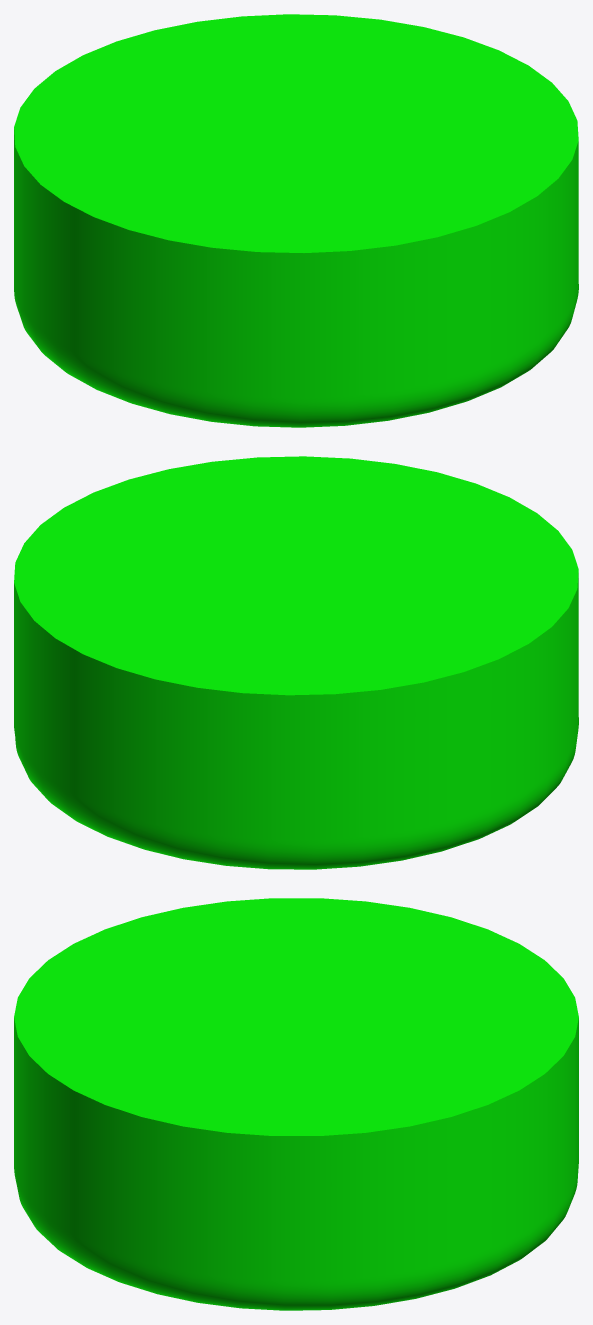
The model's file is ring.glb.
3 renders of one model, top to bottom at view 1: azimuth 30°, elevation 25°; view 2: azimuth 150°, elevation 25°; view 3: azimuth 270°, elevation 25°, orthographic.
Parts seen in each view (by area): view 1: Mesh.002; view 2: Mesh.002; view 3: Mesh.002.
Boxes of the visible parts, <box> form: Mesh.002: <box>14,14,578,427</box>; Mesh.002: <box>14,456,578,869</box>; Mesh.002: <box>14,898,578,1310</box>.
Bounding box in the file's own units: 6.19 × 2.25 × 6.19.
